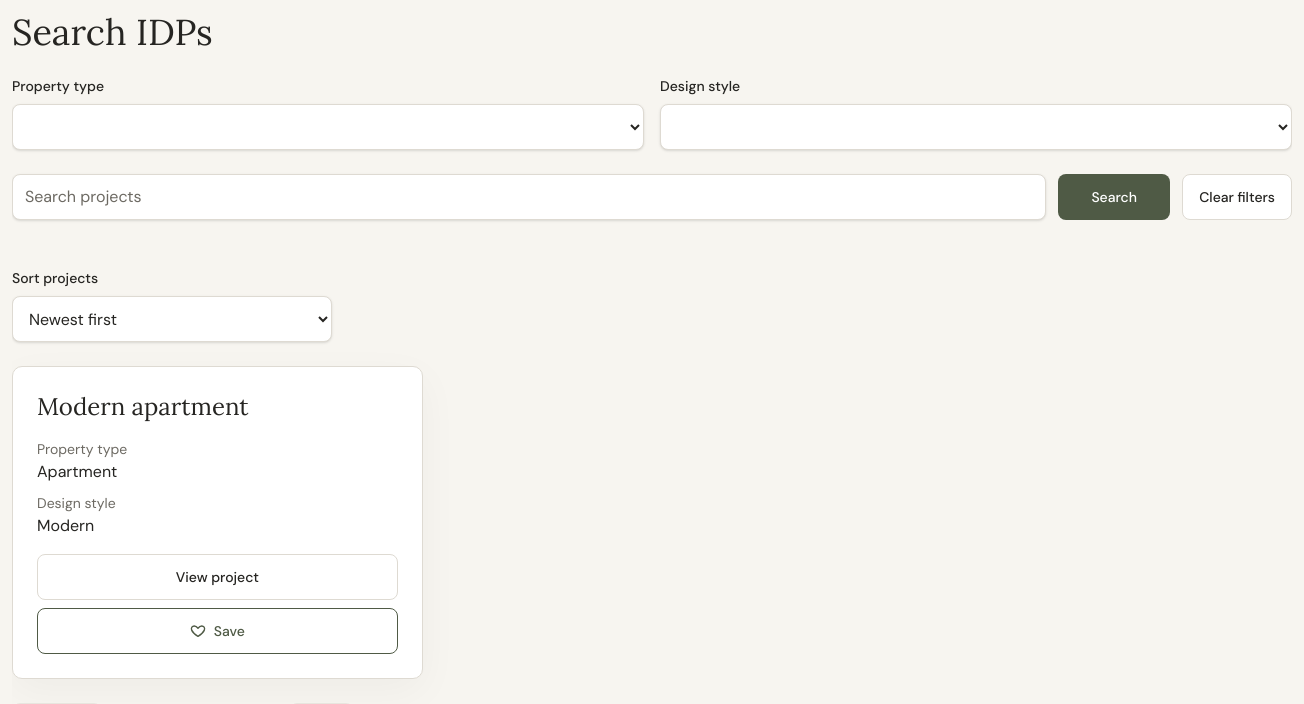
it: Clear filters empties the keyword and both filters and shows every project
Expected: the heading "Modern apartment" is shown, [37, 391, 249, 422]
Select "Apartment" in the dropdown labelled "Property type". click: (328, 127)
box: [12, 104, 644, 150]
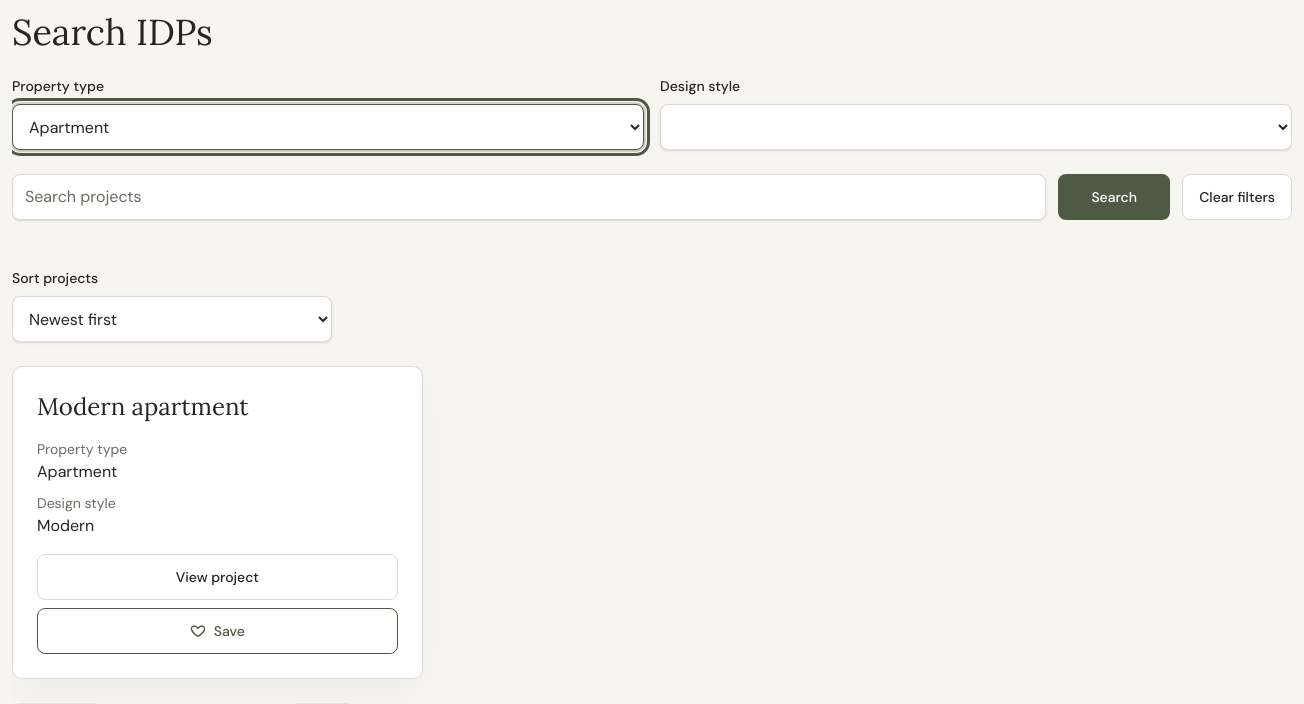
Select "Modern" in the dropdown labelled "Design style". click: (976, 127)
box: [660, 104, 1292, 150]
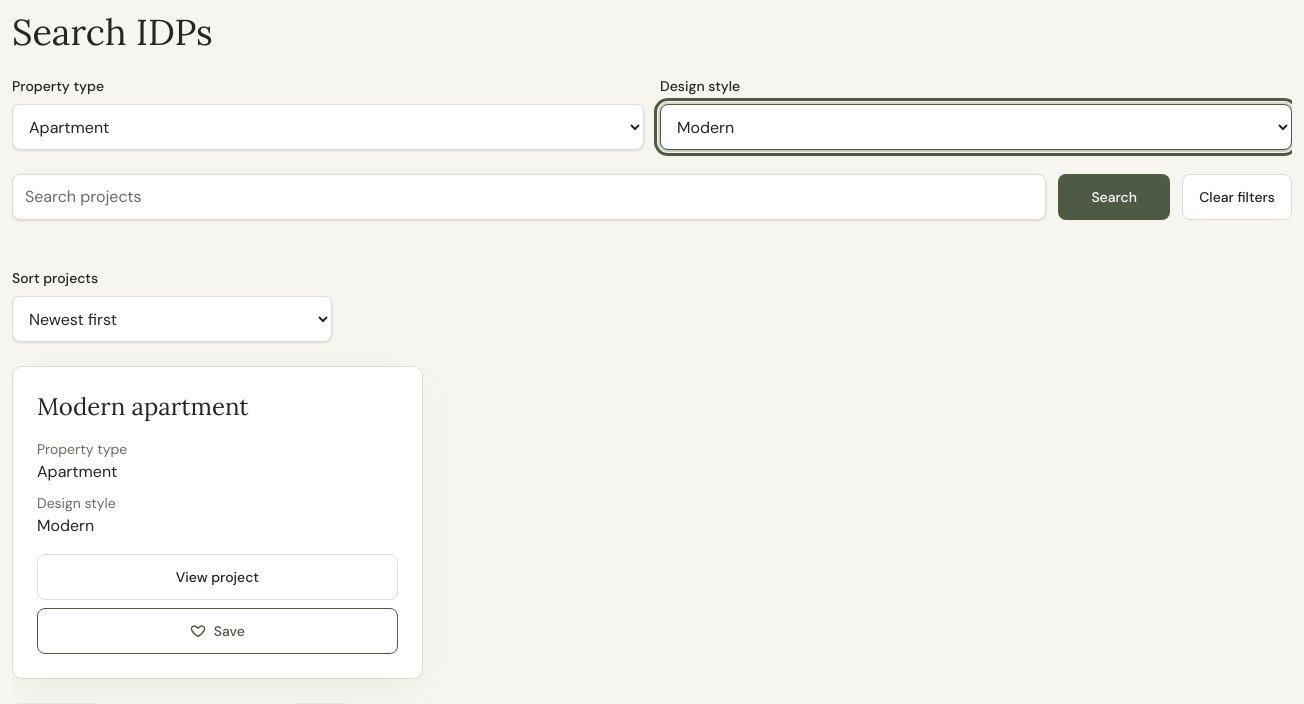
Type "Modern" into the field labelled "Search". click: (529, 197)
box: [12, 174, 1046, 220]
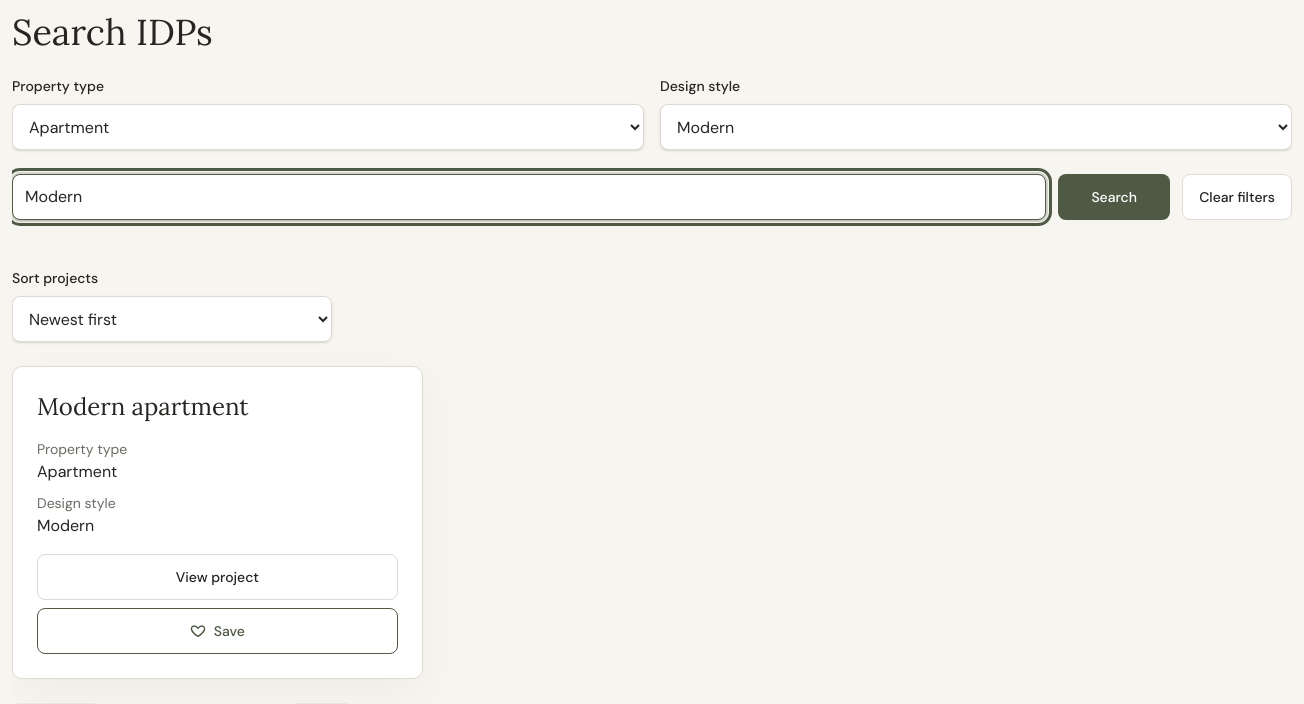
Click the button "Search". click: (1114, 197)
box: [1058, 174, 1170, 220]
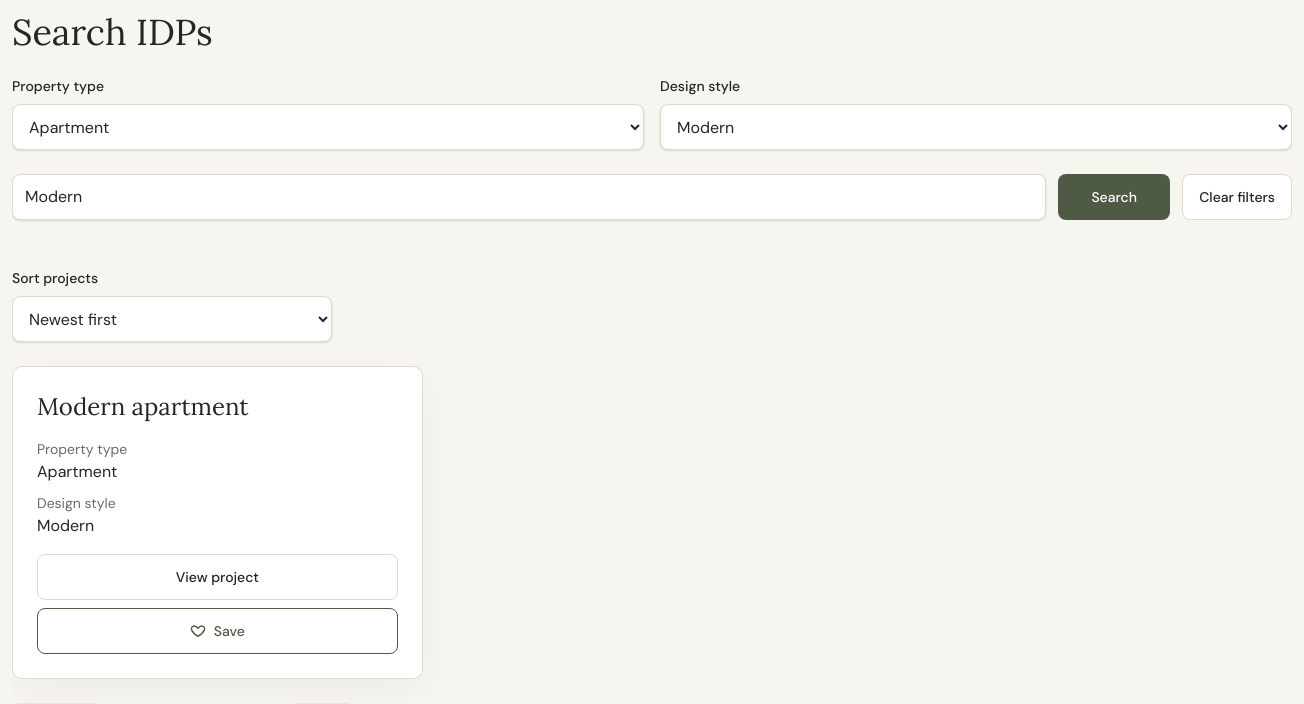
Expected: the heading "Modern apartment" is shown, [37, 391, 249, 422]
Click the button "Clear filters". click: (1237, 197)
box: [1182, 174, 1292, 220]
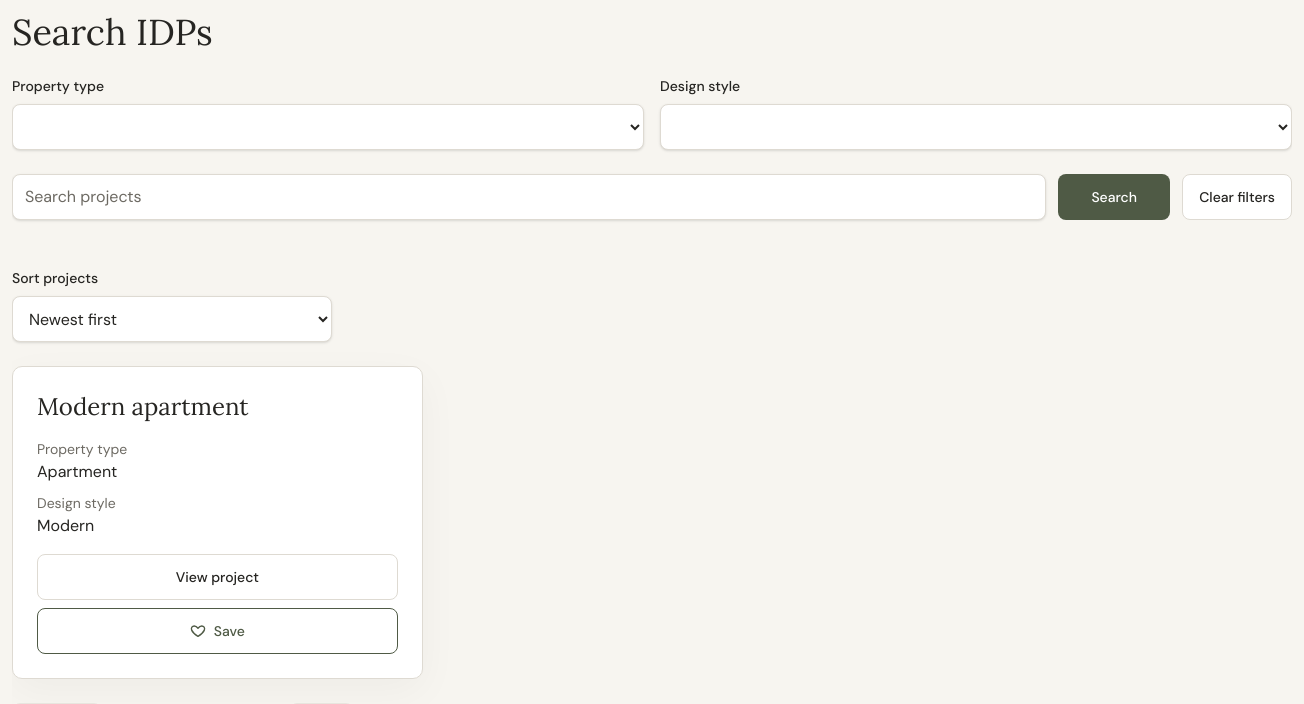
Expected: the field labelled "Search" is empty, [12, 174, 1046, 220]
